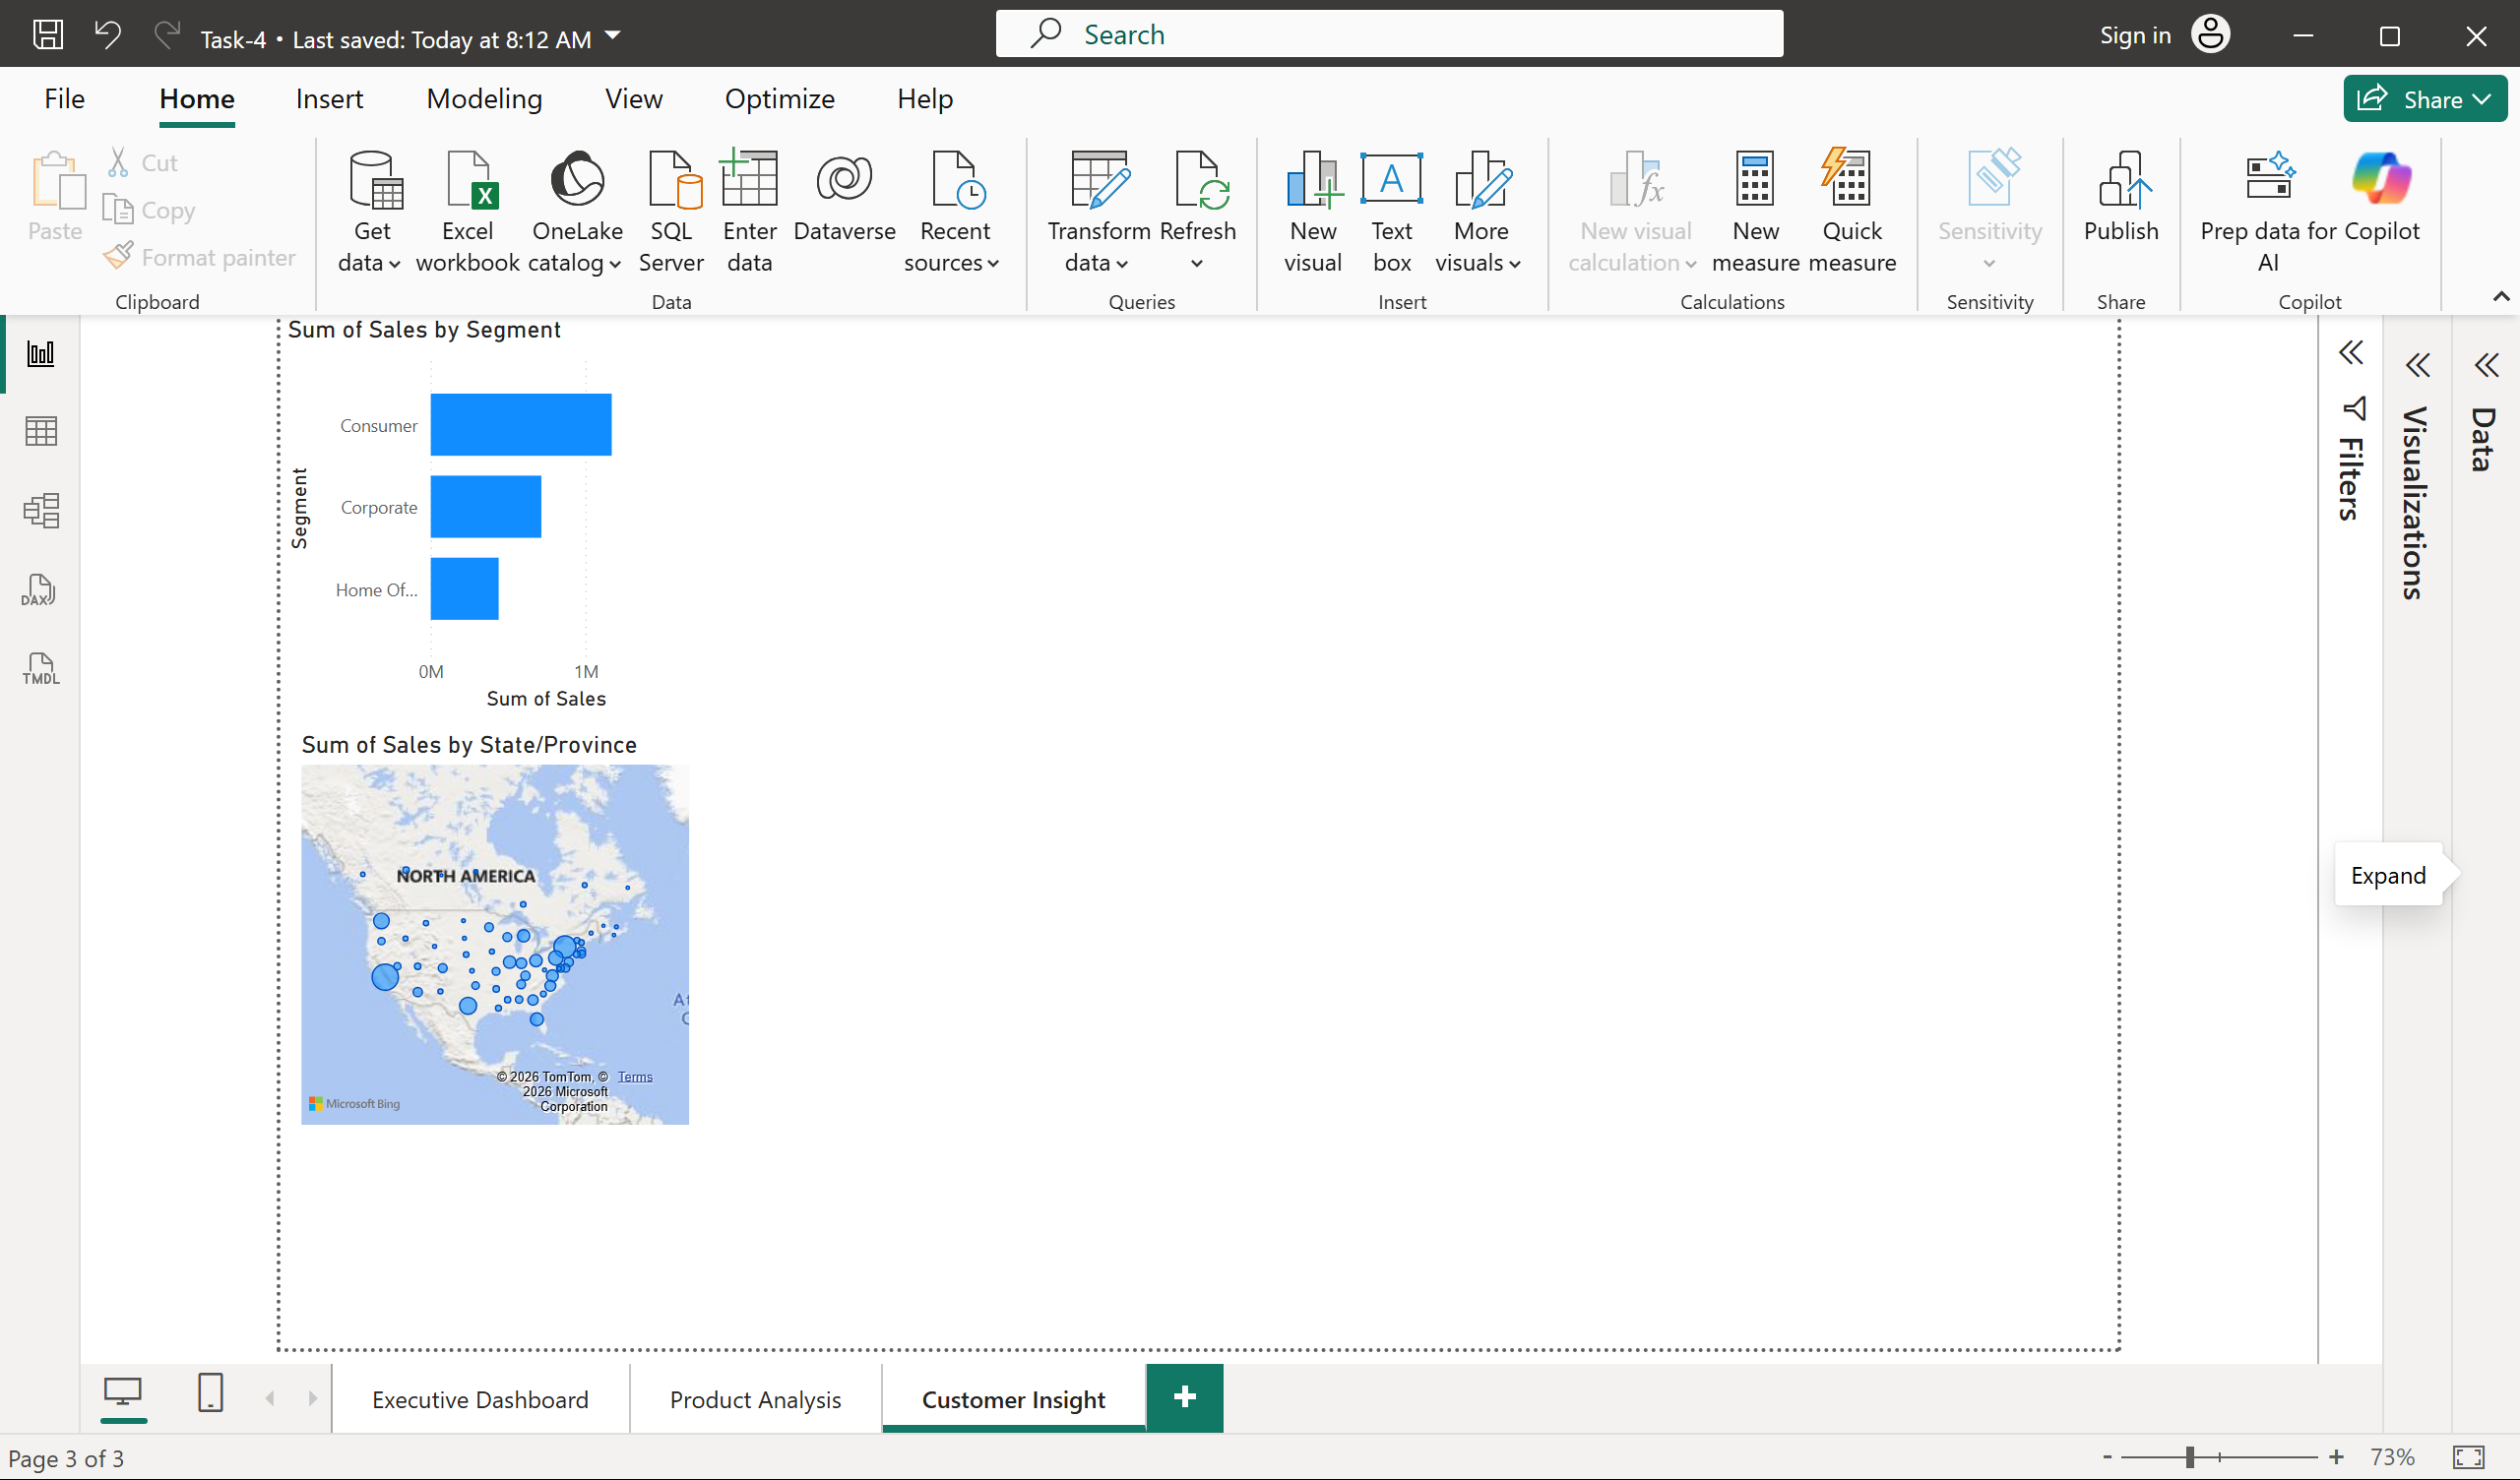

The dashboard page shown, as its layout file describes it:
{"tool":"powerbi","page":{"name":"Customer Insight","canvas":[1280,720],"ordinal":2},"visuals":[{"type":"clusteredBarChart","fields":{"Y":["Sum(samplesuperstore.Sales)"],"Category":["samplesuperstore.Segment"]},"box":[0,0,280.2,280.2],"z":0},{"type":"map","fields":{"Category":["samplesuperstore.State/Province"],"Size":["Sum(samplesuperstore.Sales)"]},"box":[10,290,280,280],"z":1000}]}

Visuals, with their boxes on the page's 1280x720 design canvas (x1, y1, x2, y2). These are canvas units, not pixel positions in the 2520x1480 screenshot, which may show the page scaled, cropped or inside an application window:
clusteredBarChart - Sum(samplesuperstore.Sales) x samplesuperstore.Segment: 0,0,280,280
map - samplesuperstore.State/Province x Sum(samplesuperstore.Sales): 10,290,290,570
